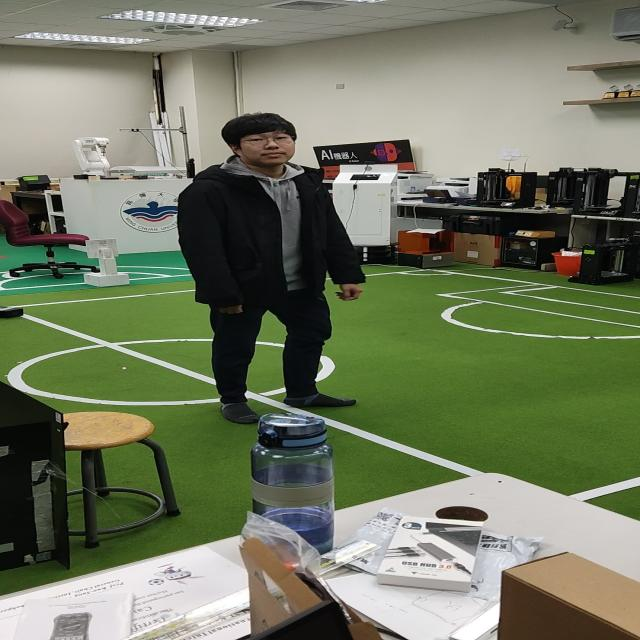person: (176, 102, 377, 426)
